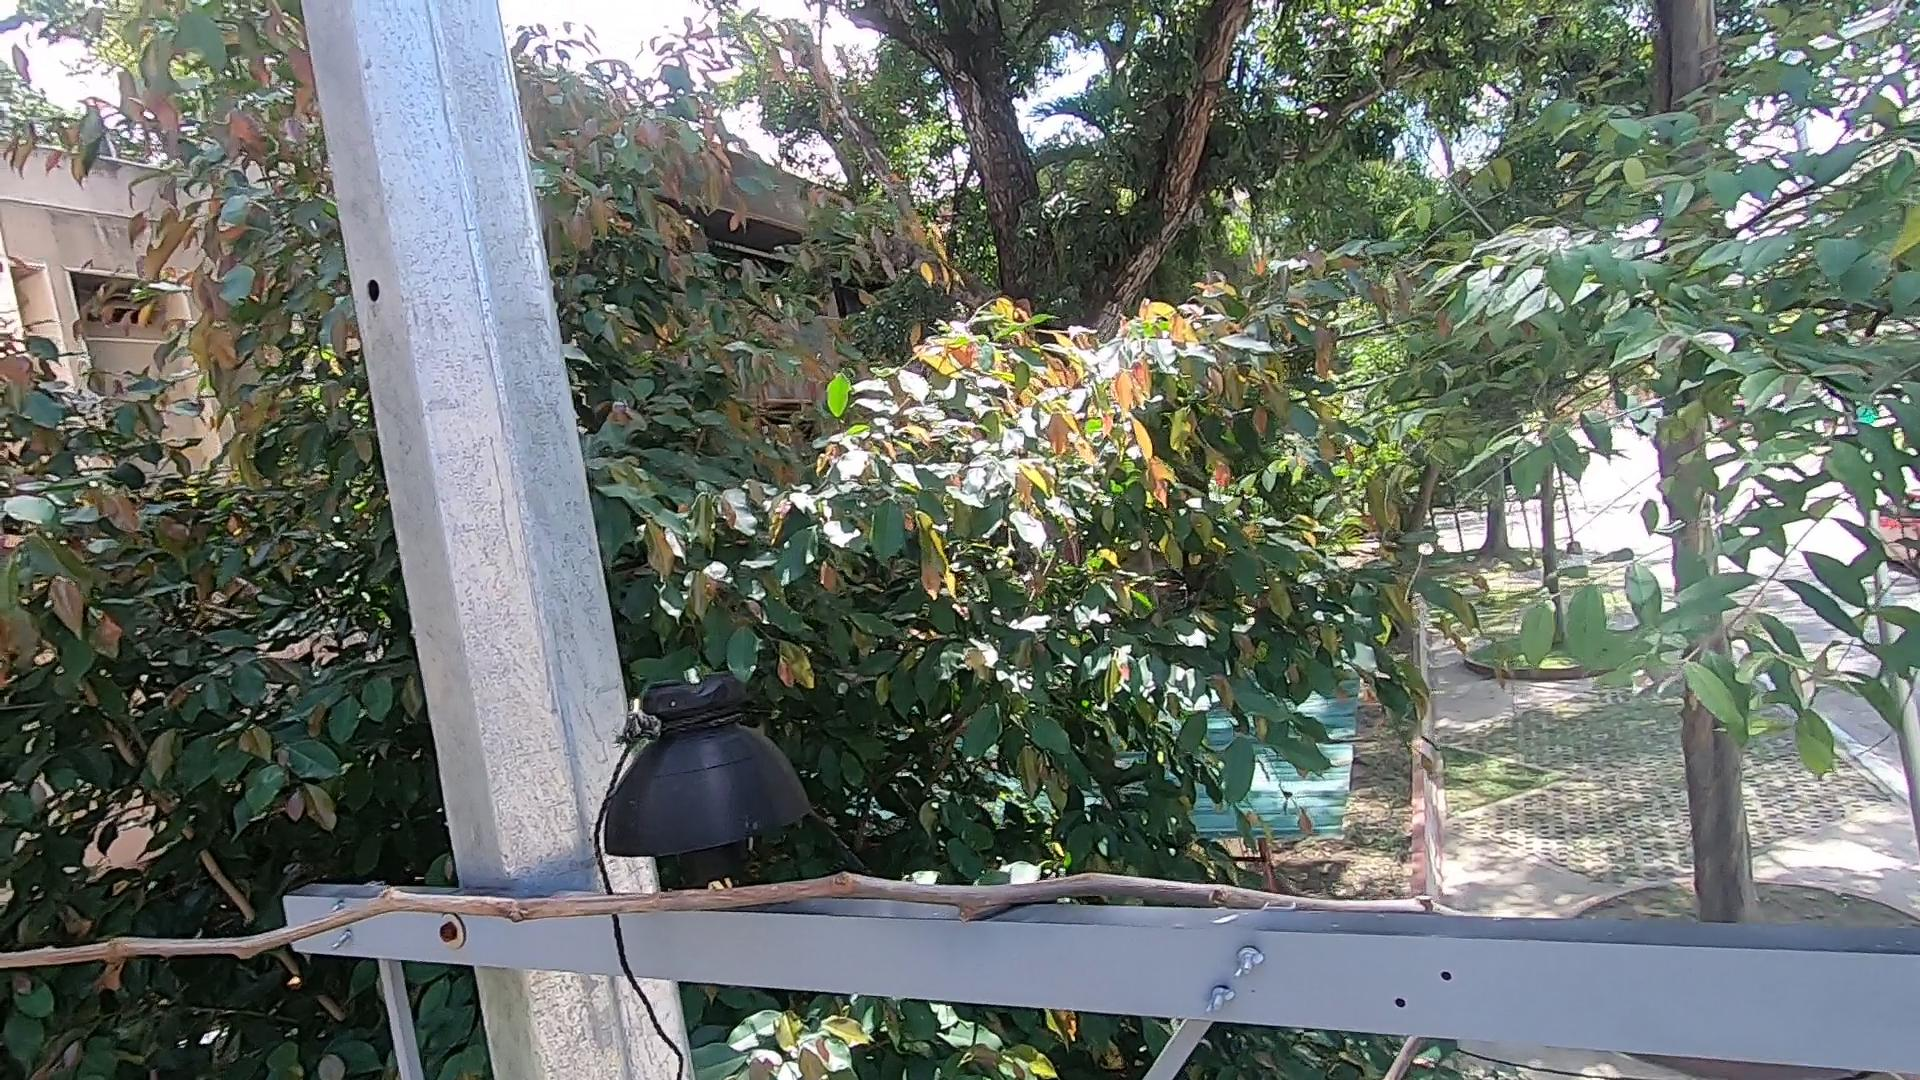tree branch: (1, 839, 1465, 986), (1373, 1027, 1425, 1077)
